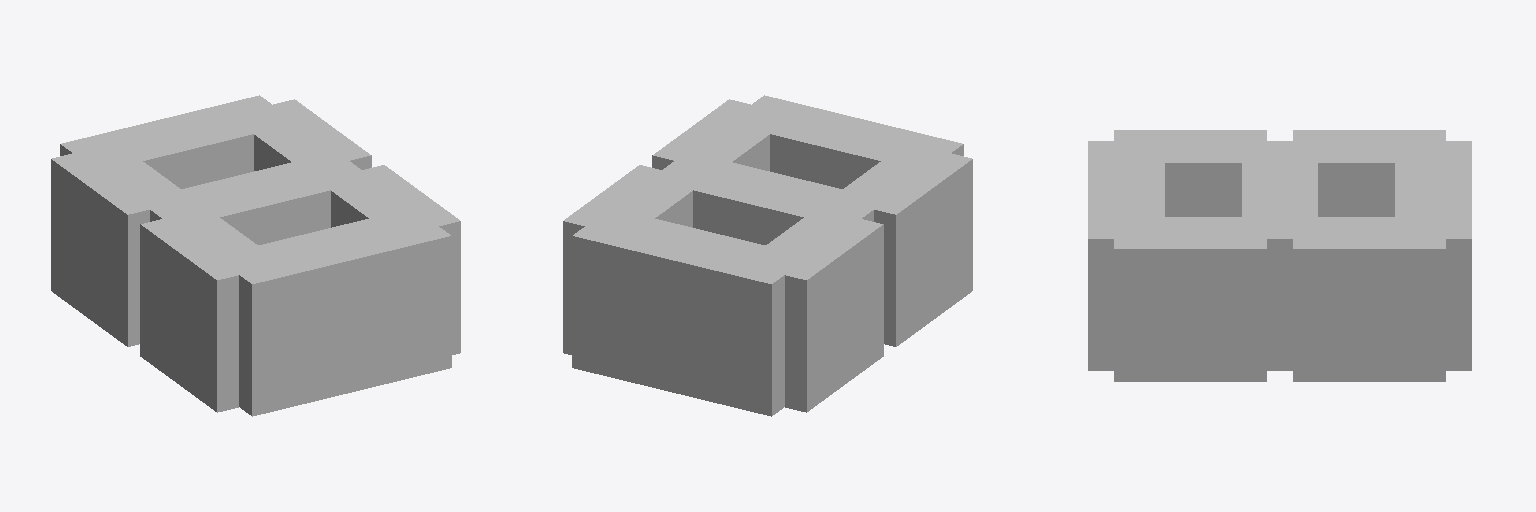
File: num_8.obj
3 renders of one model, left to right at view 1: azimuth 30°, elevation 25°; view 2: azimuth 150°, elevation 25°; view 3: azimuth 270°, elevation 25°, orthographic.
Visible parts, largest first — view 1: Text; view 2: Text; view 3: Text.
Boxes of the visible parts, <box> form: Text: <box>51,95,460,416</box>; Text: <box>563,95,972,416</box>; Text: <box>1088,130,1471,381</box>.
Size of the model in its own units: 0.5789 by 0.3 by 0.7895.